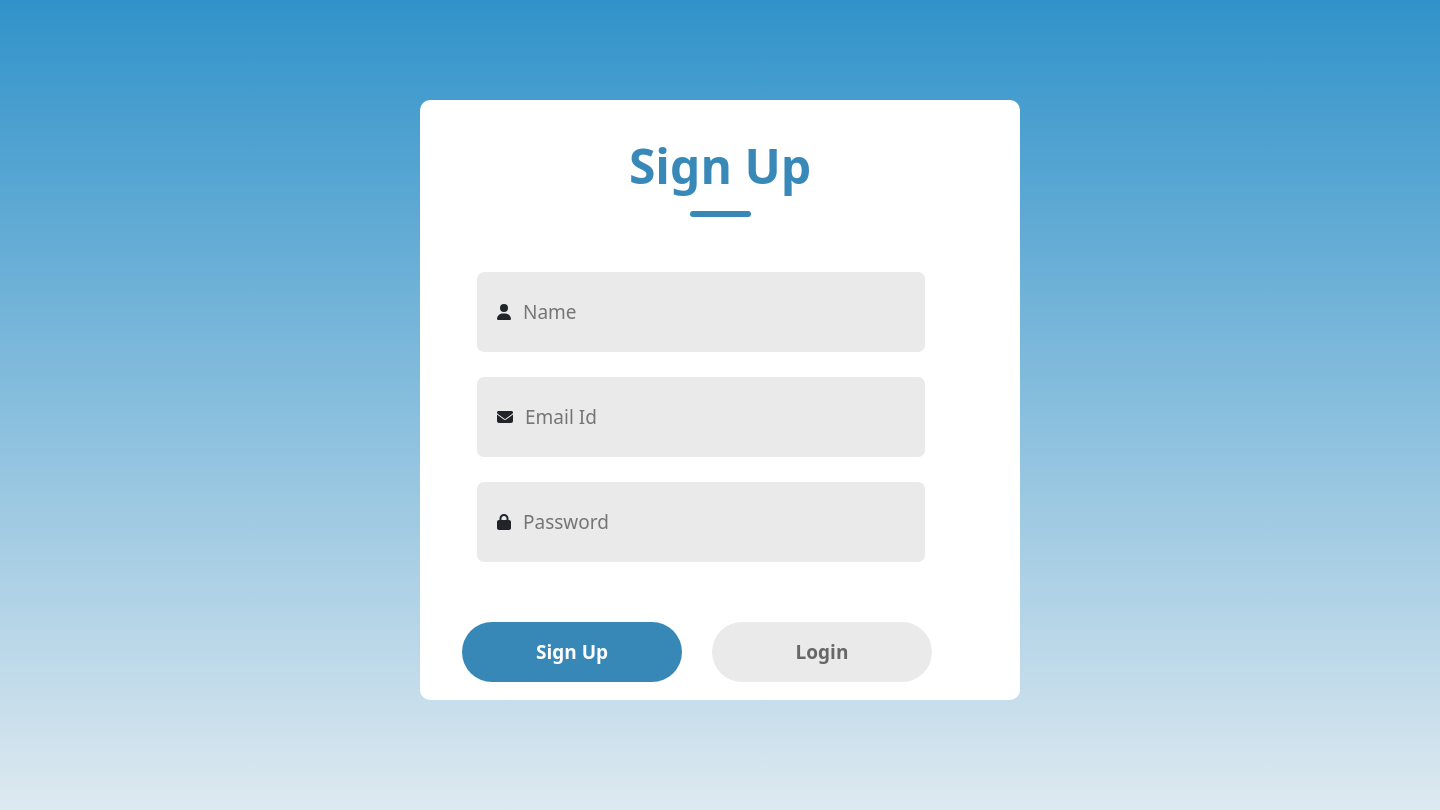
Test: LoginSignup Component › changes action state on Login click
Note: Find the Login button and simulate a click
Click the button "Login". click: (822, 652)
box: x1=712 y1=622 x2=932 y2=682
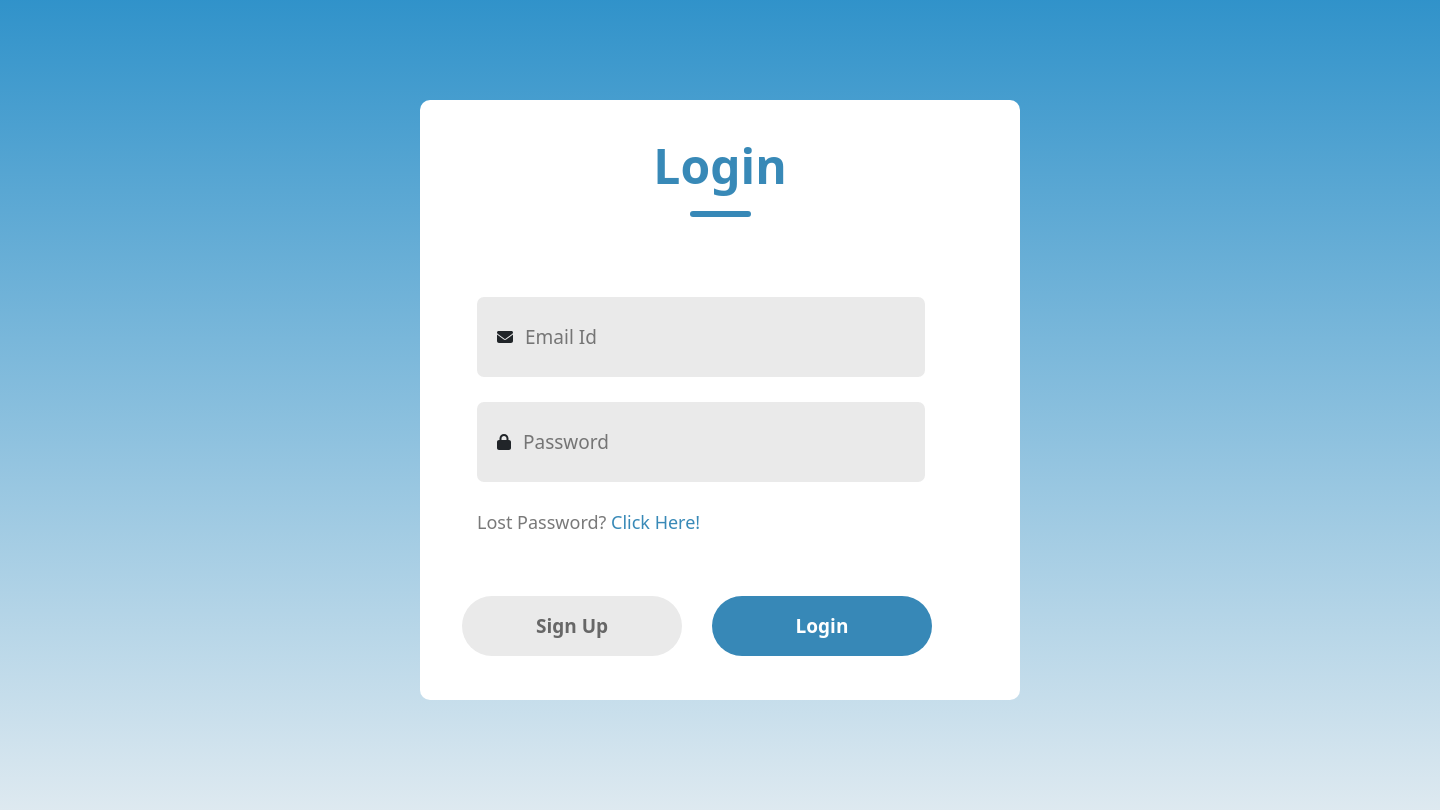
Check: the text "Login" is shown, box x1=653 y1=130 x2=787 y2=202
